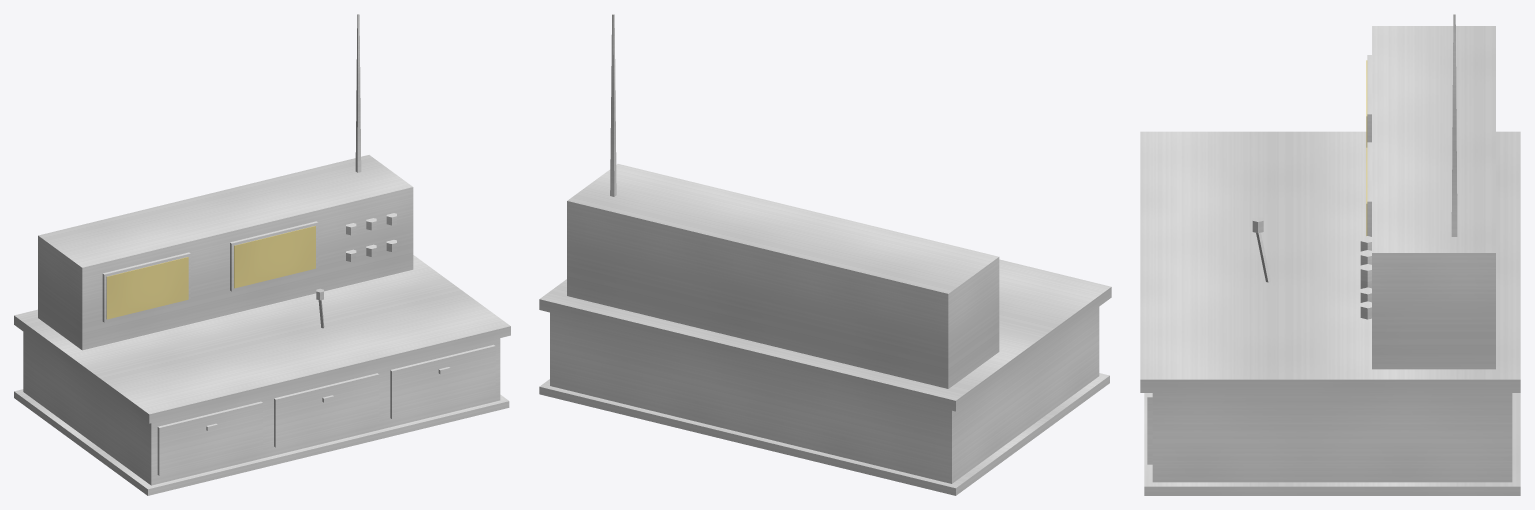
File: comms_console.obj
3 views of the same model, side by side, from view 1: azimuth 30°, elevation 25°; view 2: azimuth 150°, elevation 25°; view 3: azimuth 270°, elevation 25° (orthographic). The views are drawn at different scales.
Parts seen in each view (by area): view 1: comms_console; view 2: comms_console; view 3: comms_console.
Boxes of the visible parts, left/top/right/bottom form: comms_console: left=14, top=14, right=510, bottom=495; comms_console: left=539, top=14, right=1111, bottom=495; comms_console: left=1140, top=14, right=1520, bottom=495.
Bounding box in the file's own units: 2.84 × 2.42 × 1.84.
